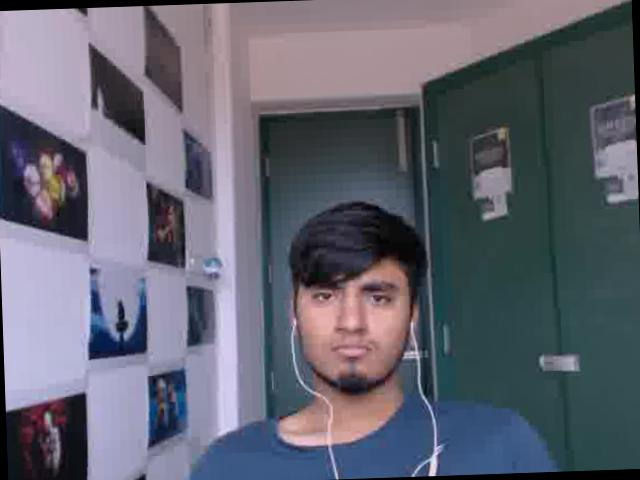bingung: (295, 248, 408, 384)
